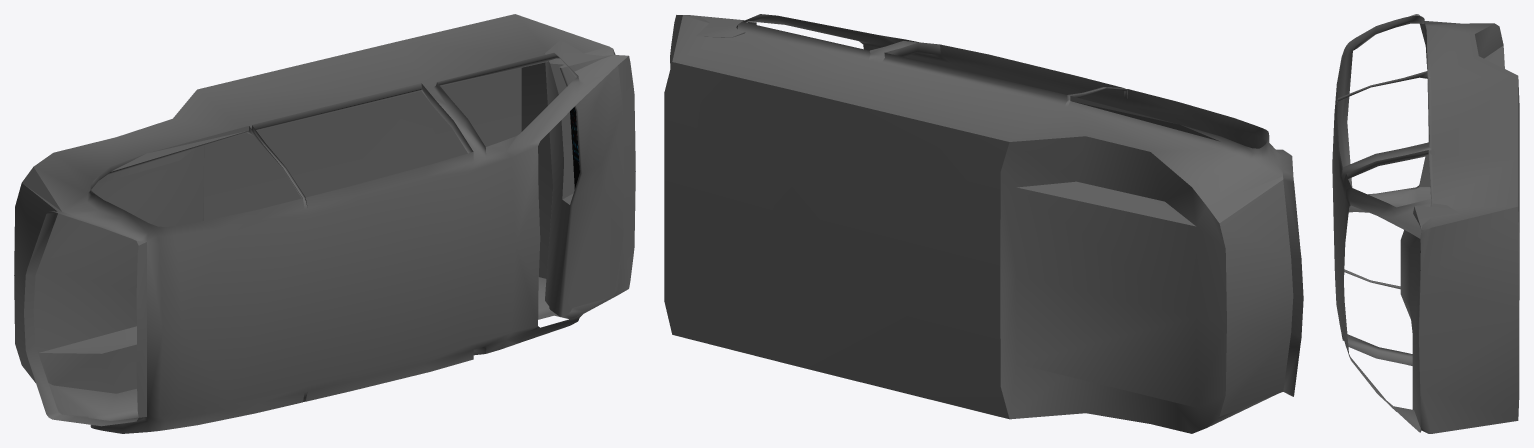
File: interior.obj
3 renders of one model, left to right at view 1: azimuth 30°, elevation 25°; view 2: azimuth 150°, elevation 25°; view 3: azimuth 270°, elevation 25°, orthographic. The views are drawn at different scales.
Visible parts, largest first — view 1: 4_-_Default; view 2: 4_-_Default; view 3: 4_-_Default.
Boxes of the visible parts, left/top/right/bottom form: 4_-_Default: left=14, top=14, right=635, bottom=433; 4_-_Default: left=664, top=14, right=1303, bottom=433; 4_-_Default: left=1332, top=14, right=1519, bottom=433.
Bounding box in the file's own units: 3.95 × 1.69 × 1.27.
2 materials, 1 textured.
